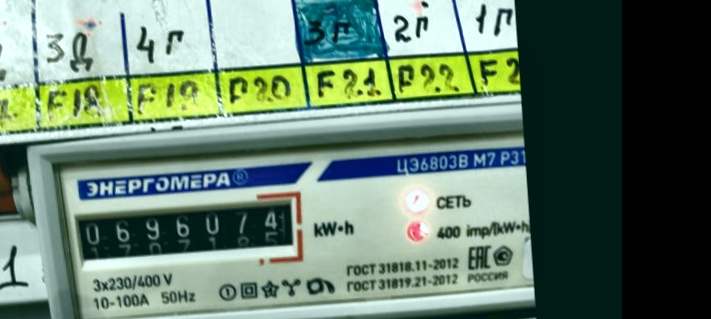0: (77, 219, 98, 244), (199, 209, 217, 235)
4: (257, 205, 274, 228)
5: (260, 229, 277, 245)
6: (170, 210, 189, 238), (109, 217, 128, 242)
7: (229, 207, 248, 233)
9: (139, 214, 157, 241)
screen: (60, 186, 304, 271)
